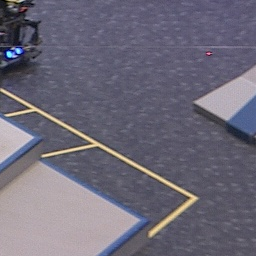Blue: (5, 46, 23, 58)
Robot: (1, 1, 42, 70)
